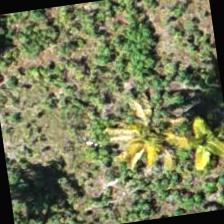Kelapa_Sawit: (103, 74, 205, 176)
